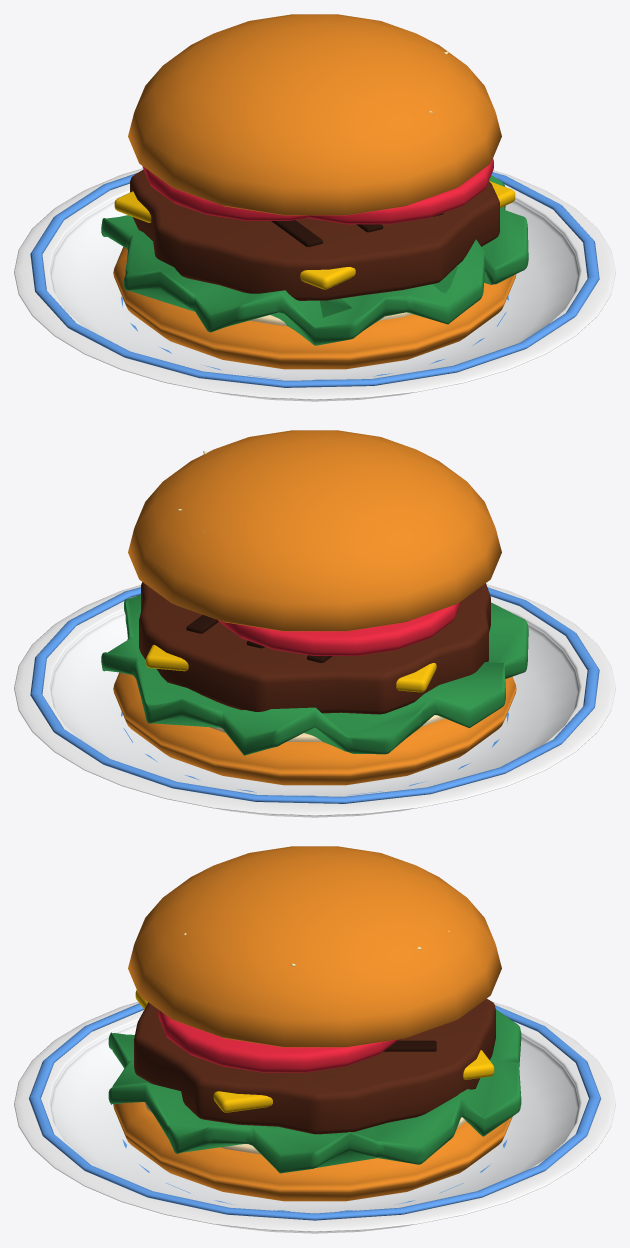
The model's file is burger-cheese.glb.
3 renders of one model, top to bottom at view 1: azimuth 30°, elevation 25°; view 2: azimuth 150°, elevation 25°; view 3: azimuth 270°, elevation 25°, orthographic.
Visible parts, largest first — view 1: PlateBody; view 2: PlateBody; view 3: PlateBody.
Boxes of the visible parts, x1,y1,x2,y2 form: PlateBody: (14,14,615,401); PlateBody: (14,430,615,817); PlateBody: (14,846,615,1233).
Bounding box in the file's own units: 0.6919 × 0.3544 × 0.6919.
